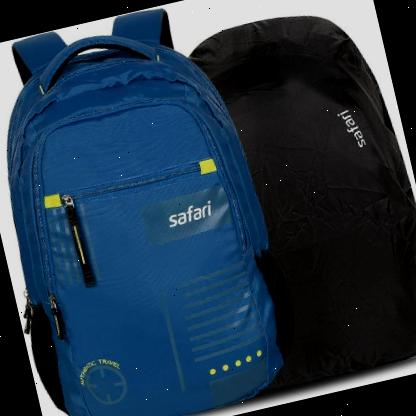bag: (0, 0, 301, 416), (150, 0, 416, 414)
